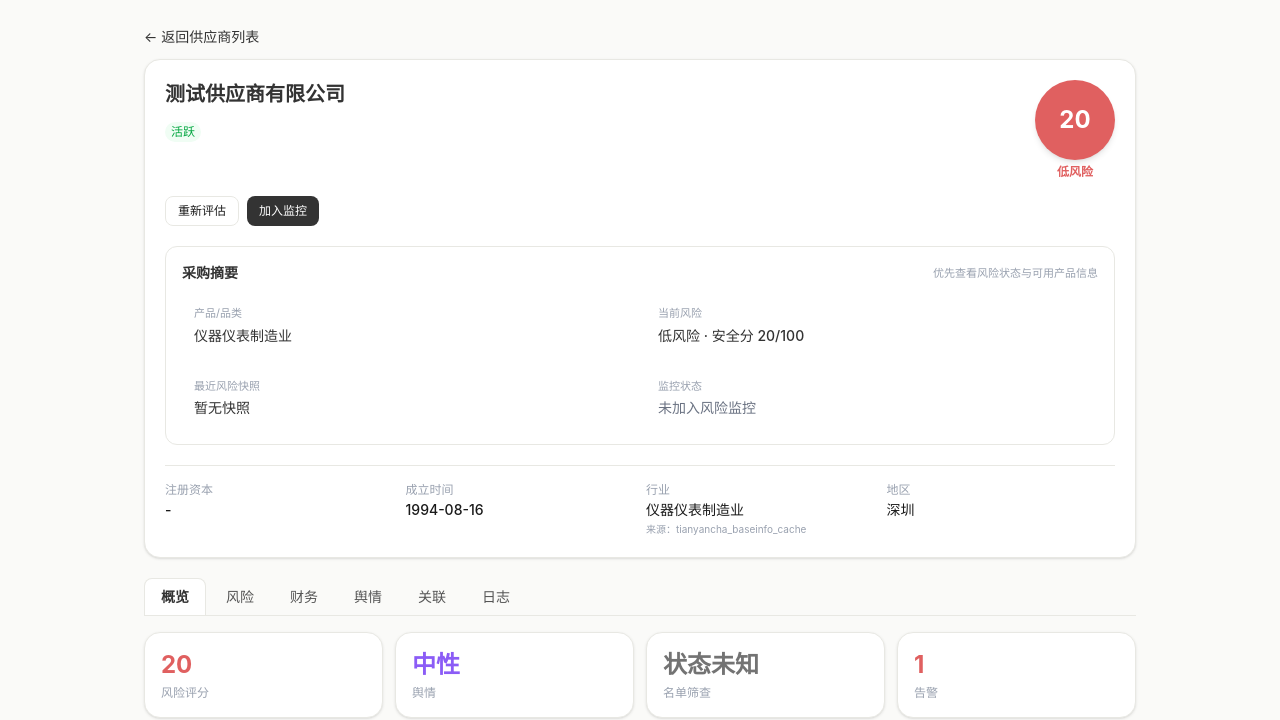
SupplierProfilePage › uses the embedded changelog without a duplicate request
The image size is (1280, 720).
Check: the heading "测试供应商有限公司" is shown, box [165,82,345,106]
Click the button "日志": (496, 596) [466,578,526,615]
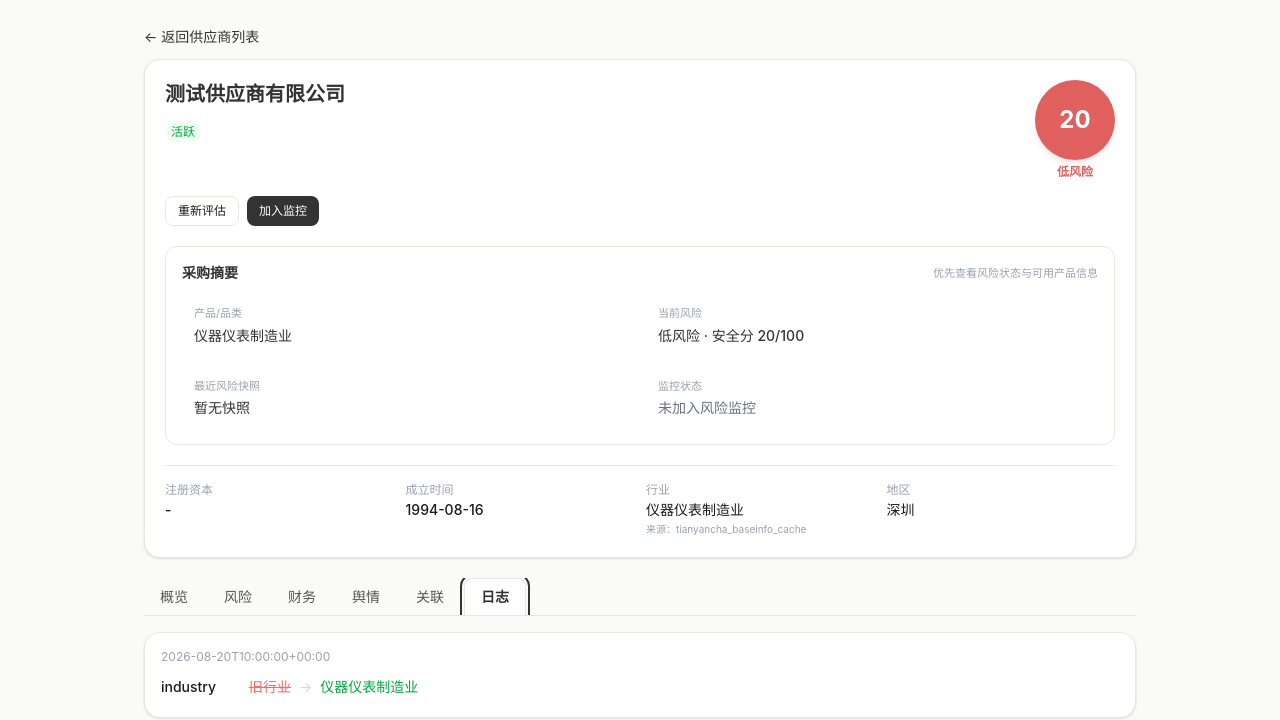
Check: the text "旧行业" is shown, box [249,677,291,697]
